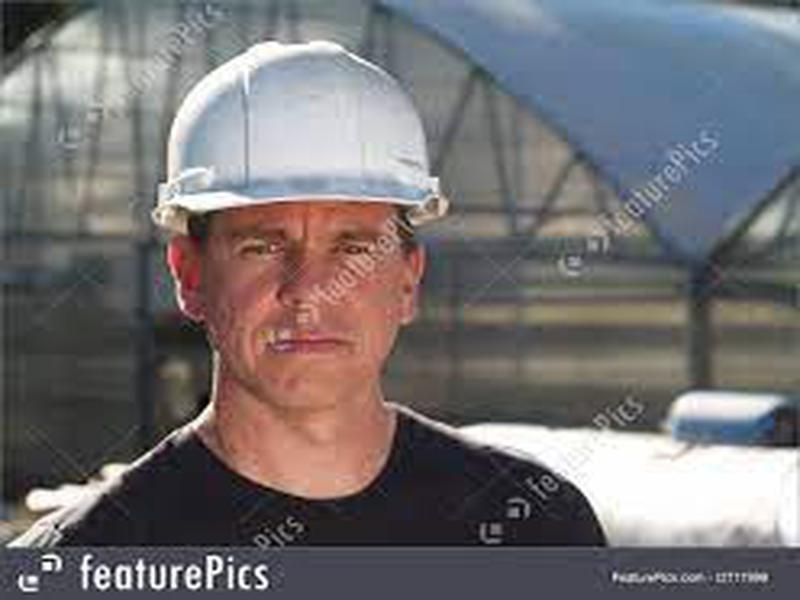hardhat: (145, 37, 453, 231)
